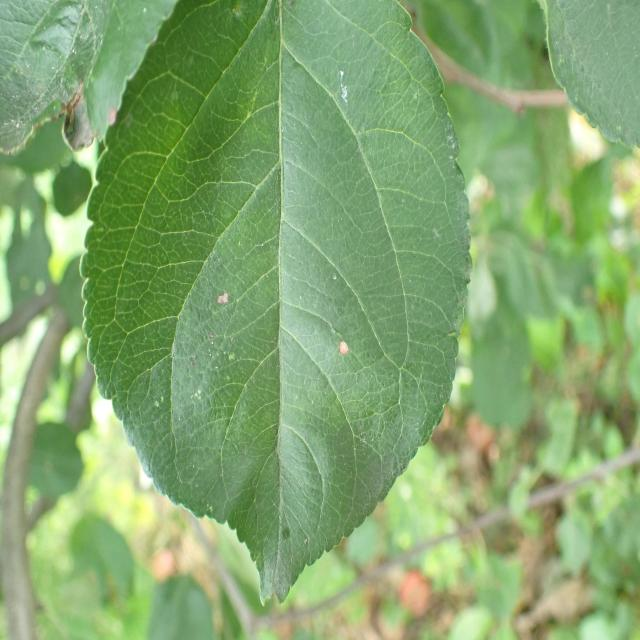Black Rot: (328, 326, 370, 378), (210, 277, 238, 326)
